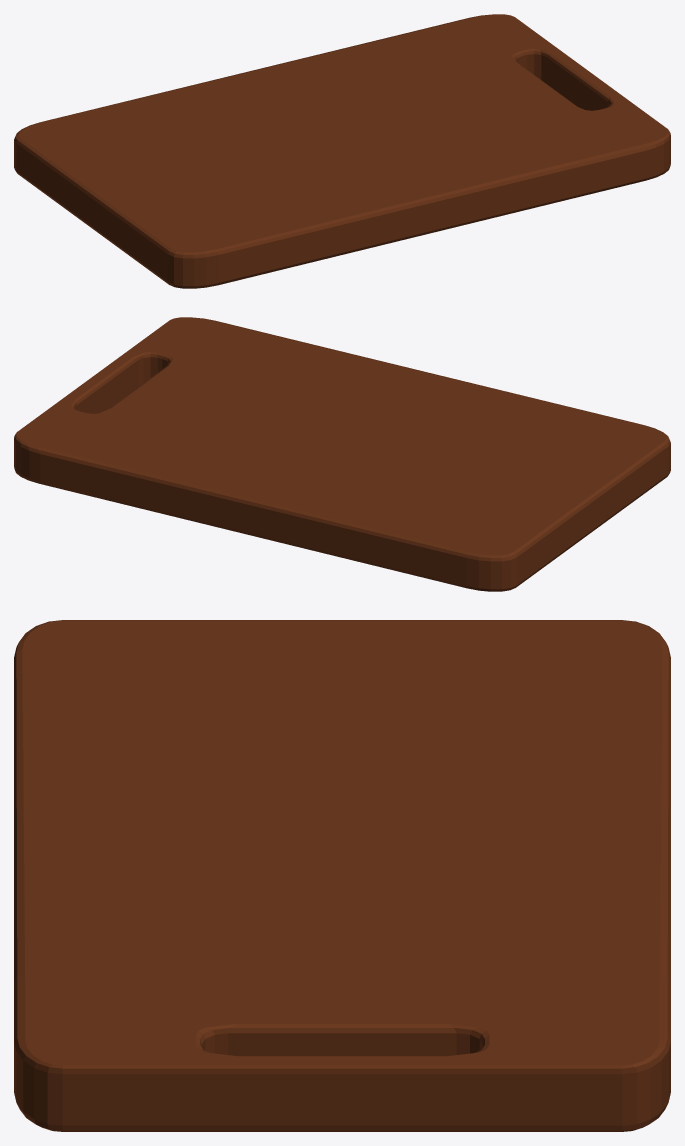
Rendered from cuttingboard.fbx.
3 views of the same model, one above another, from view 1: azimuth 30°, elevation 25°; view 2: azimuth 150°, elevation 25°; view 3: azimuth 270°, elevation 25° (orthographic). The views are drawn at different scales.
Visible parts, largest first — view 1: Cube; view 2: Cube; view 3: Cube.
Part boxes in pixels (bbox=[...]): Cube: bbox=[14, 14, 670, 288]; Cube: bbox=[14, 317, 670, 591]; Cube: bbox=[14, 620, 670, 1131].
Size of the model in its own units: 324 by 22.36 by 200.
